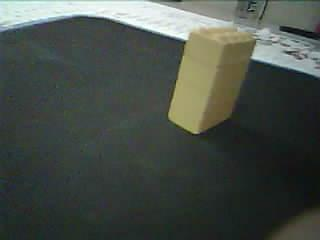lego: (166, 24, 256, 135)
